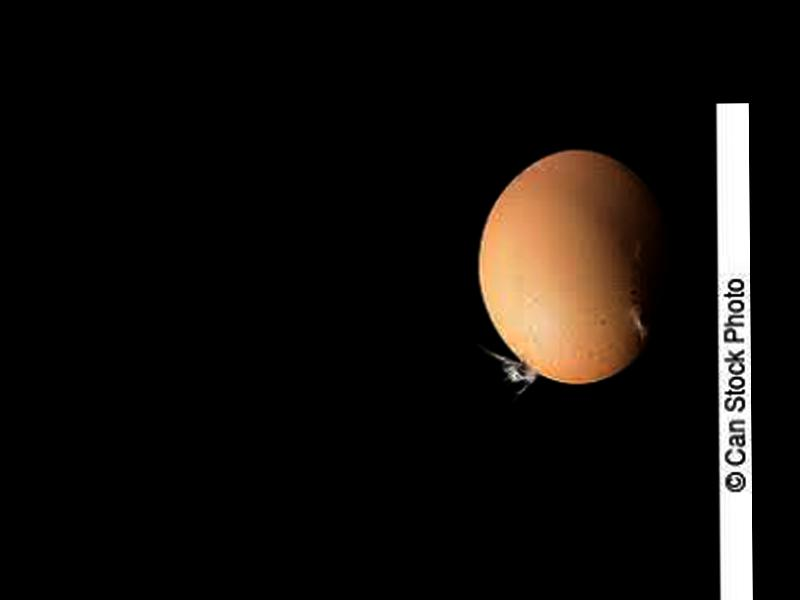Eggs: (478, 148, 674, 385)
